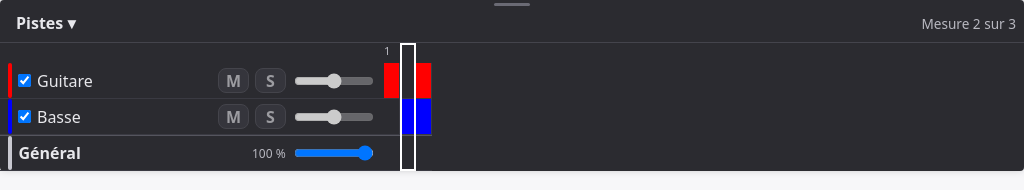
Test: TabTrackPanel (#31) › se replie, et bloque muet, solo et volume quand la tablature suit une maquette
This screenshot has width=1024, height=190.
Expected: the button named "Couper Guitare" is disabled, [218,68,249,93]
Expected: the slider named "Volume de Guitare" is disabled, [294,72,374,90]
Click the button with test id "tab-tracks-toggle".
click(46, 23)  # box [8,8,83,38]
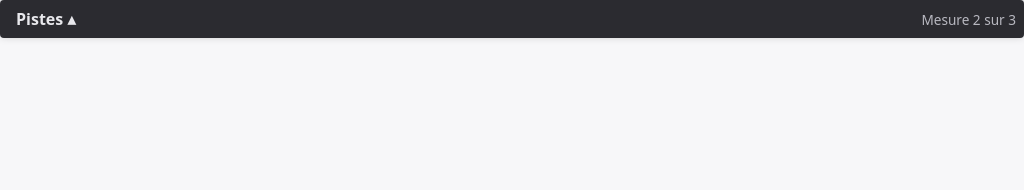
Expected: the button with test id "tab-tracks-toggle" is collapsed, [8,4,83,34]
